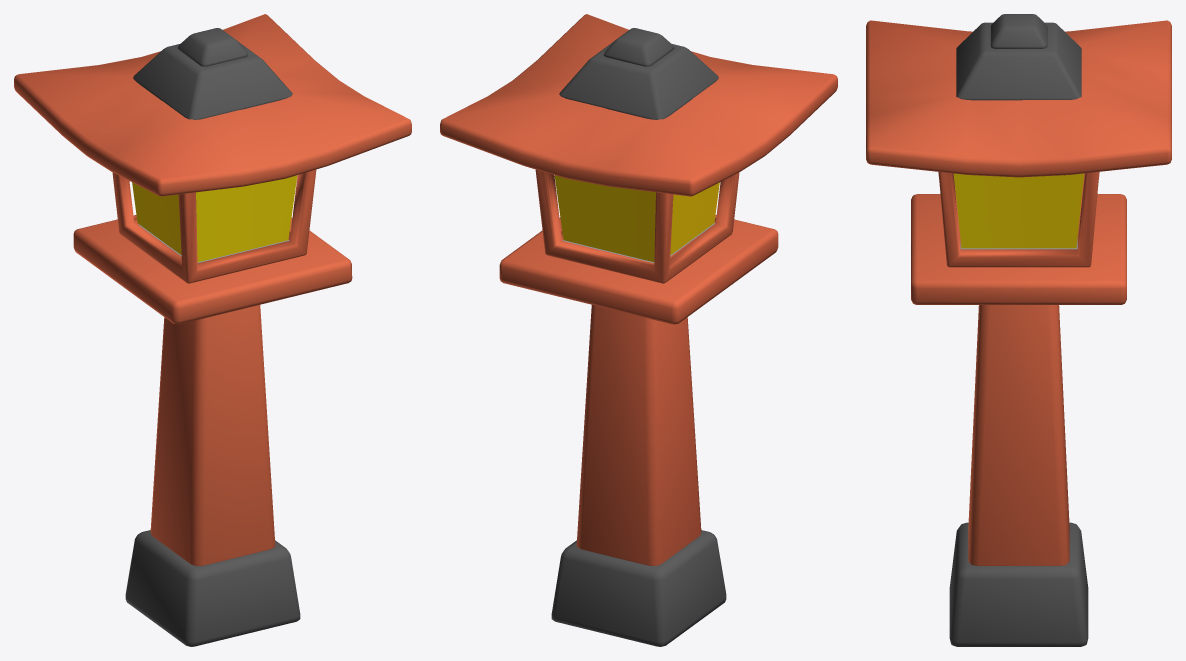
The model's file is lamparaPequeña.glb.
The picture shows the model from 3 angles, left to right: view 1: azimuth 30°, elevation 25°; view 2: azimuth 150°, elevation 25°; view 3: azimuth 270°, elevation 25°; orthographic projection. The views are drawn at different scales.
Parts seen in each view (by area): view 1: Cube_Palette_0; view 2: Cube_Palette_0; view 3: Cube_Palette_0.
Boxes of the visible parts, x1,y1,x2,y2 form: Cube_Palette_0: (14,14,411,646); Cube_Palette_0: (440,14,837,646); Cube_Palette_0: (866,14,1171,646).
Bounding box in the file's own units: 1.3 × 2.82 × 1.3.
Materials: 1 (1 with a texture image).
